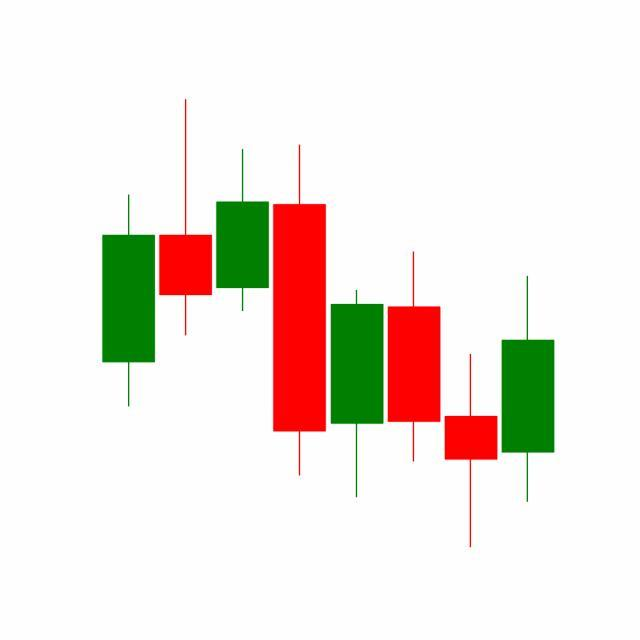Three Inside Up-Down: (328, 248, 500, 549)
